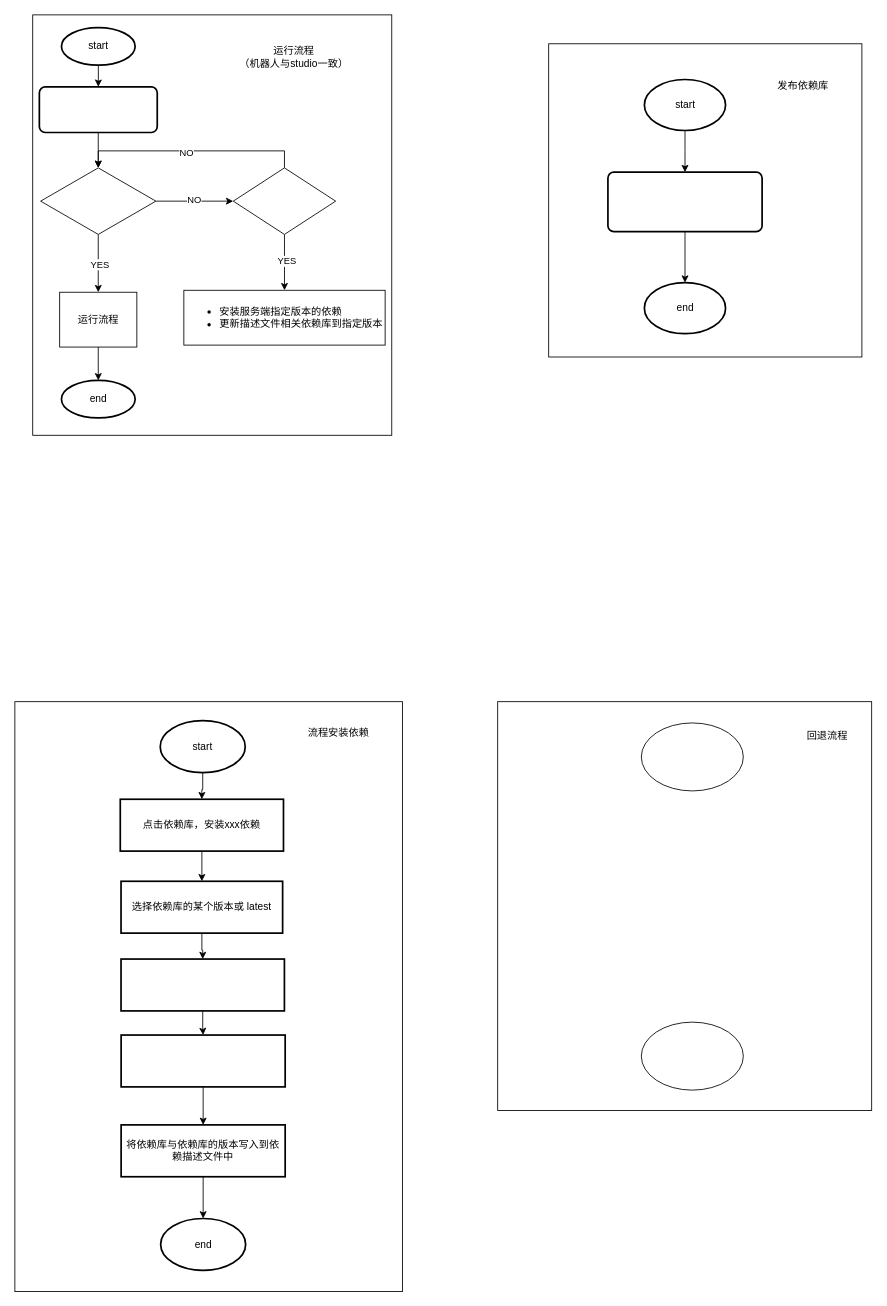
Some shapes in this 887 by 1306 pixel diagram are drawn without their labels. The shapes that lost their labels are listed below. From the top down, each one's centre as x and y in pixels, then its label:
pixel 98 109: 点击运行按钮
pixel 98 200: 遍历依赖库完成
pixel 284 200: dynamicLatest 为 true
pixel 685 201: 发依赖库
pixel 202 984: 点击安装
pixel 203 1060: 将依赖下载到指定目录中
